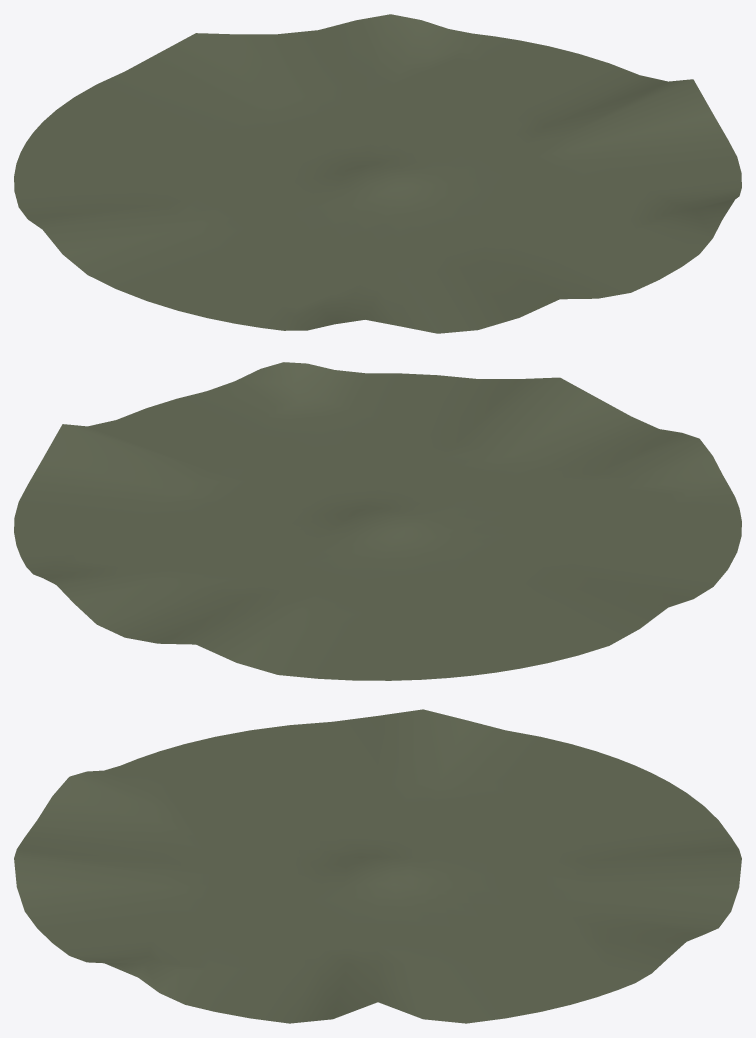
Rendered from Turret Game Environment Ground Surface.fbx.
The picture shows the model from 3 angles, top to bottom: view 1: azimuth 30°, elevation 25°; view 2: azimuth 150°, elevation 25°; view 3: azimuth 270°, elevation 25°; orthographic projection.
Visible parts, largest first — view 1: Plane; view 2: Plane; view 3: Plane.
Part boxes in pixels (x1,y1,x2,y2): Plane: [14, 14, 741, 333]; Plane: [14, 362, 741, 680]; Plane: [14, 709, 741, 1023].
Bounding box in the file's own units: 6922 × 273 × 6922.
